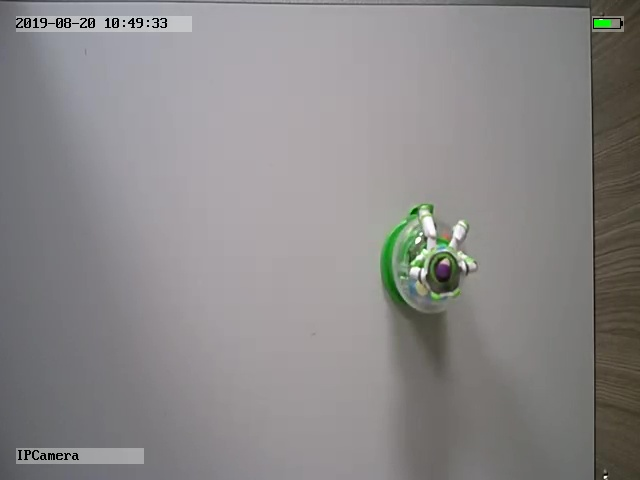buzz: (379, 201, 479, 320)
